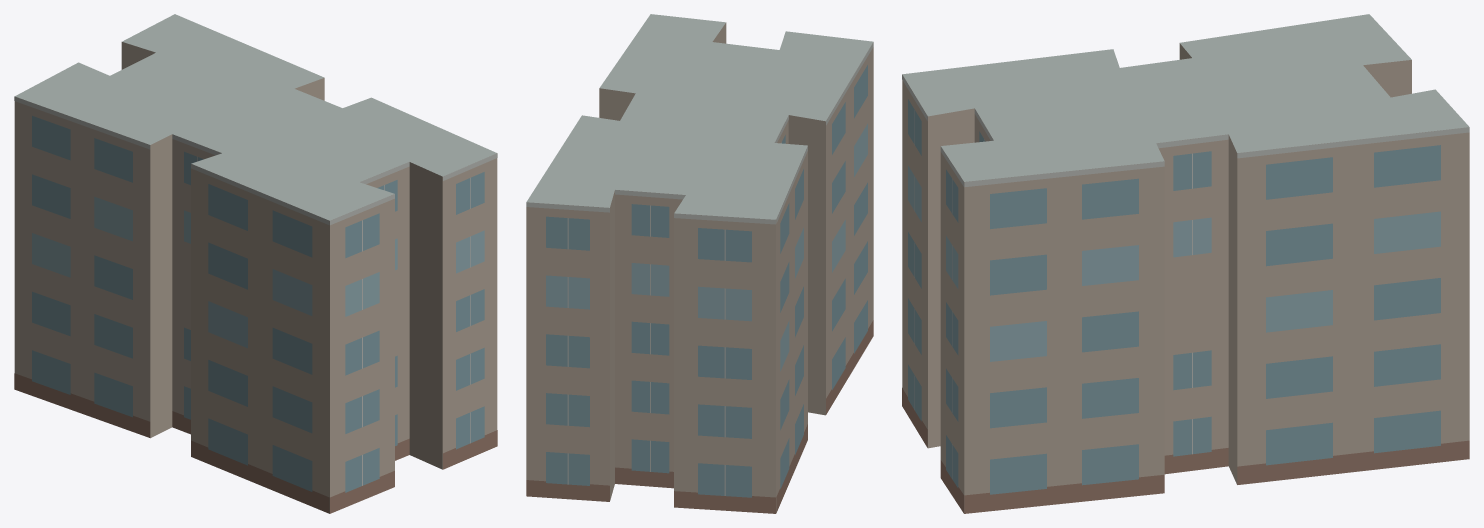
Rendered from survey-upis-32491234.glb.
3 renders of one model, left to right at view 1: azimuth 30°, elevation 25°; view 2: azimuth 150°, elevation 25°; view 3: azimuth 270°, elevation 25°, orthographic. The views are drawn at different scales.
Visible parts, largest first — view 1: survey-upis-32491234.tmp; view 2: survey-upis-32491234.tmp; view 3: survey-upis-32491234.tmp.
Part boxes in pixels (<box>): survey-upis-32491234.tmp: <box>14,14,497,513</box>; survey-upis-32491234.tmp: <box>526,14,873,513</box>; survey-upis-32491234.tmp: <box>902,14,1469,513</box>.
Bounding box in the file's own units: 16.56 × 15.25 × 23.64.
